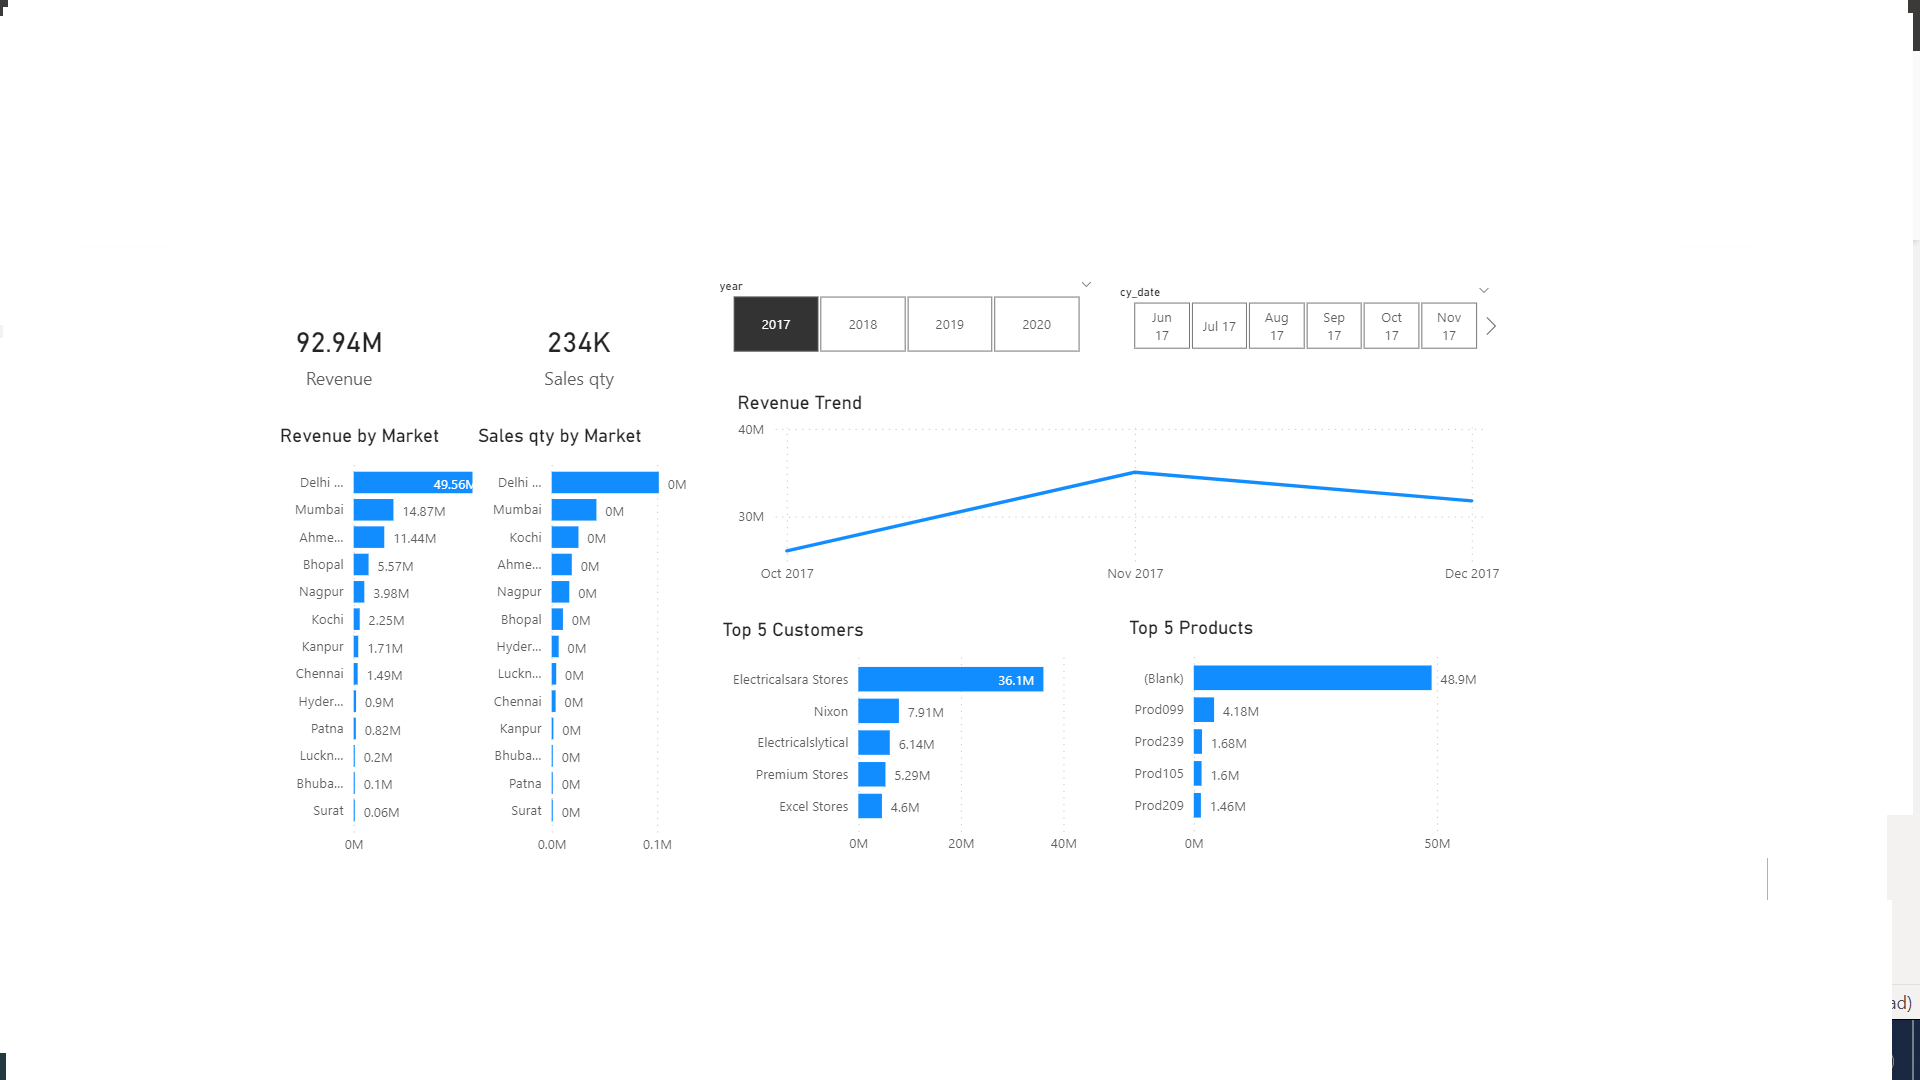

The page's visual inventory and layout, read from the dashboard file:
{"tool":"powerbi","page":{"name":"Page 1","canvas":[1280,720],"ordinal":0},"visuals":[{"type":"card","fields":{"Values":["BaseMeasure.Revenue"]},"box":[17.5,22.5,223.8,130],"z":0},{"type":"card","fields":{"Values":["BaseMeasure.Sales qty"]},"box":[250,22.5,191.2,130],"z":1000},{"type":"barChart","title":"Revenue by Market","fields":{"Y":["BaseMeasure.Revenue"],"Category":["sales markets.markets_name"]},"box":[71.2,152.5,232.5,396.2],"z":2000},{"type":"barChart","title":"Sales qty by Market","fields":{"Y":["BaseMeasure.Sales qty"],"Category":["sales markets.markets_name"]},"box":[250,152.5,232.5,396.2],"z":3000},{"type":"slicer","fields":{"Values":["sales date.cy_date"]},"box":[843.8,23.8,358.8,63.8],"z":4000},{"type":"slicer","fields":{"Values":["sales date.year"]},"box":[482.5,22.5,361.2,77.5],"z":5000},{"type":"barChart","title":"Top 5 Customers","fields":{"Y":["BaseMeasure.Revenue"],"Category":["sales customers.custmer_name"]},"box":[470,327.5,328.8,221.2],"z":6000},{"type":"barChart","title":"Top 5 Products","fields":{"Y":["BaseMeasure.Revenue"],"Category":["sales products.product_code"]},"box":[798.8,327.5,328.8,221.2],"z":7000},{"type":"lineChart","title":"Revenue Trend","fields":{"Y":["BaseMeasure.Revenue"],"Category":["sales date.cy_date.Variation.Date Hierarchy.Year","sales date.cy_date.Variation.Date Hierarchy.Quarter","sales date.cy_date.Variation.Date Hierarchy.Month","sales date.cy_date.Variation.Date Hierarchy.Day"]},"box":[482.5,123.8,551.2,175],"z":8000}]}

Visuals, with their boxes in screenshot pixels (x1, y1, x2, y2), scaled from the page's 1280x720 canvas onto the 1920x1080 screenshot:
card - BaseMeasure.Revenue: [26,34,362,229]
card - BaseMeasure.Sales qty: [375,34,662,229]
"Revenue by Market" barChart: [107,229,456,823]
"Sales qty by Market" barChart: [375,229,724,823]
slicer - sales date.cy_date: [1266,36,1804,131]
slicer - sales date.year: [724,34,1266,150]
"Top 5 Customers" barChart: [705,491,1198,823]
"Top 5 Products" barChart: [1198,491,1691,823]
"Revenue Trend" lineChart: [724,186,1551,448]
